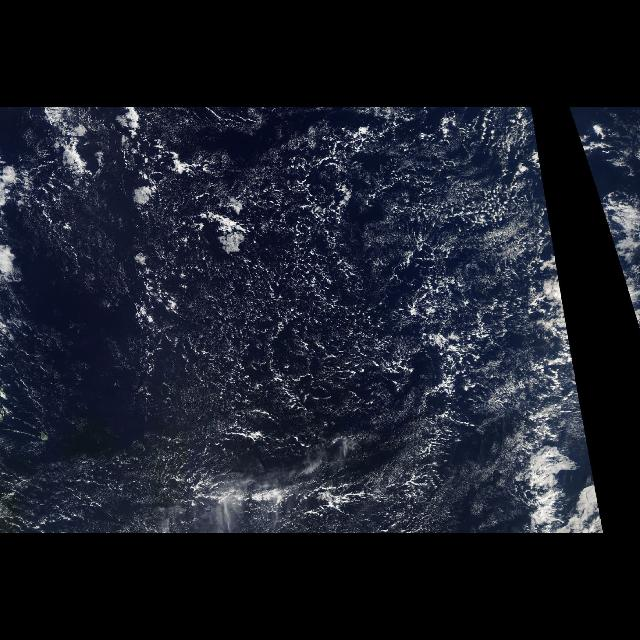Gravel: (138, 108, 552, 498)
Sugar: (0, 139, 532, 533)
